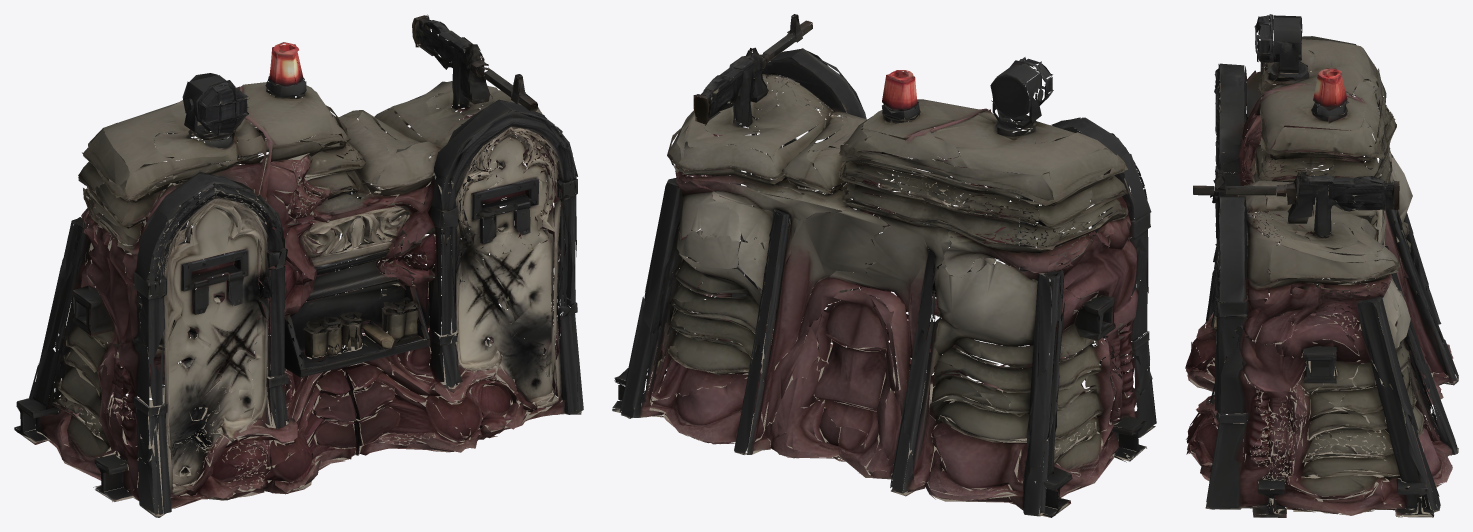
File: quest_holdout_barricade.glb
3 renders of one model, left to right at view 1: azimuth 30°, elevation 25°; view 2: azimuth 150°, elevation 25°; view 3: azimuth 270°, elevation 25°, orthographic. The views are drawn at different scales.
Parts seen in each view (by area): view 1: node_0; view 2: node_0; view 3: node_0.
Boxes of the visible parts, left/top/right/bottom form: node_0: left=14, top=14, right=583, bottom=517; node_0: left=612, top=14, right=1156, bottom=517; node_0: left=1185, top=14, right=1458, bottom=517.
Bounding box in the file's own units: 0.9007 × 0.7102 × 0.5027.
Materials: 1 (1 with a texture image).
